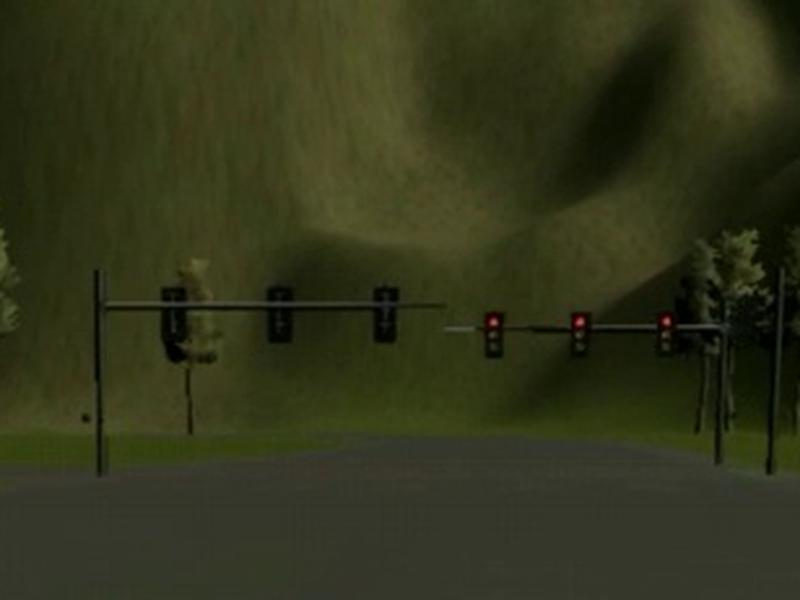Red: (570, 311, 592, 359), (484, 310, 505, 358), (657, 311, 676, 358)
